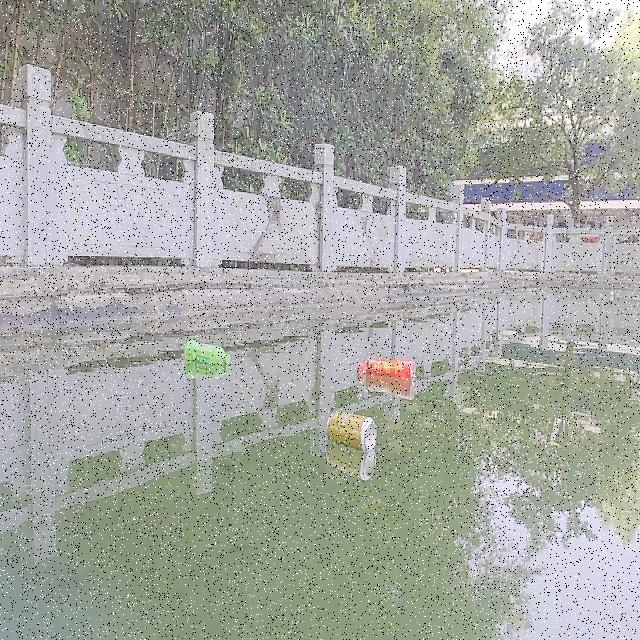bottle: (354, 348, 414, 385), (180, 334, 232, 369)
can: (322, 406, 377, 454)
